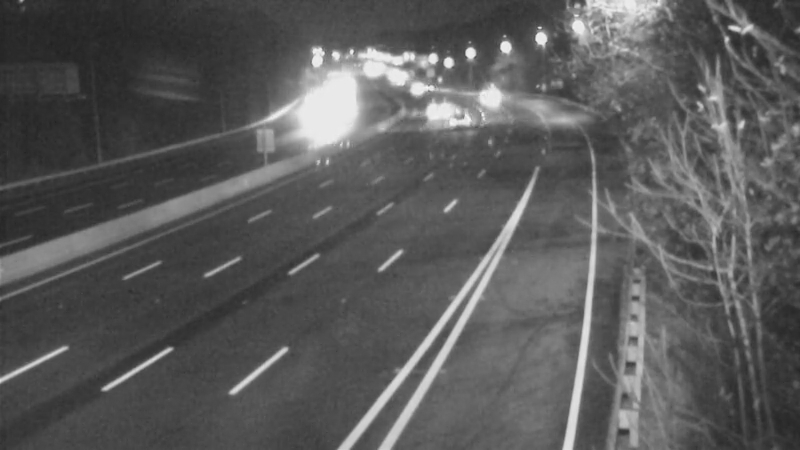vehicle: (454, 72, 504, 122), (405, 78, 455, 128), (423, 103, 473, 153), (286, 108, 336, 158)
